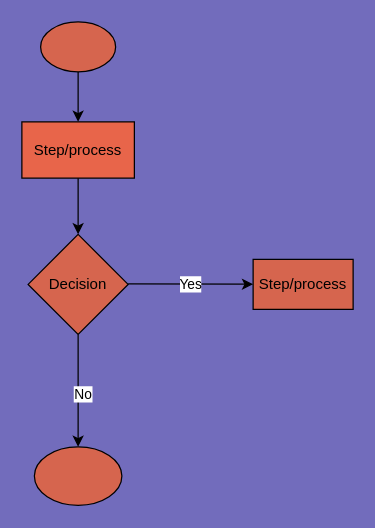
The diagram is 375 pixels wide and 528 high, and some of its shapes have lost their labels. Here are the shapes that lost their labels. From the top down, the box of each, then its label:
(39, 21, 116, 72): Start
(33, 446, 122, 505): End
